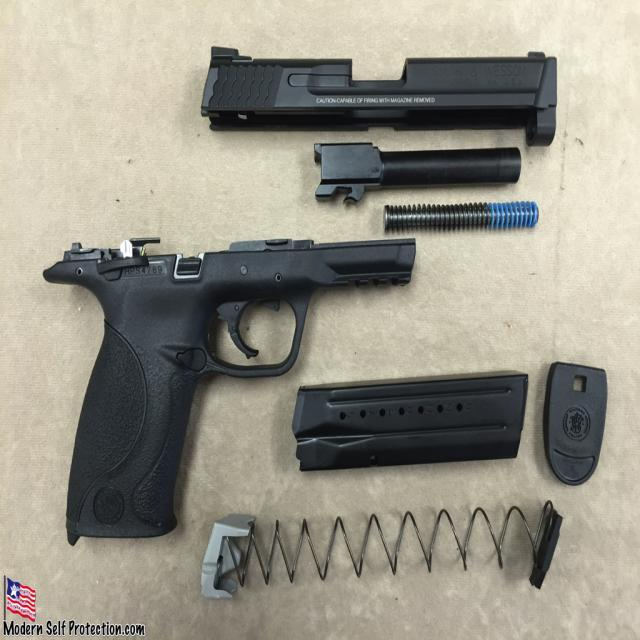Gun: (44, 238, 415, 543)
